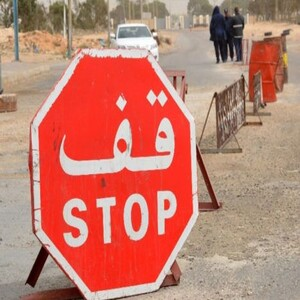stop: (32, 50, 196, 299)
